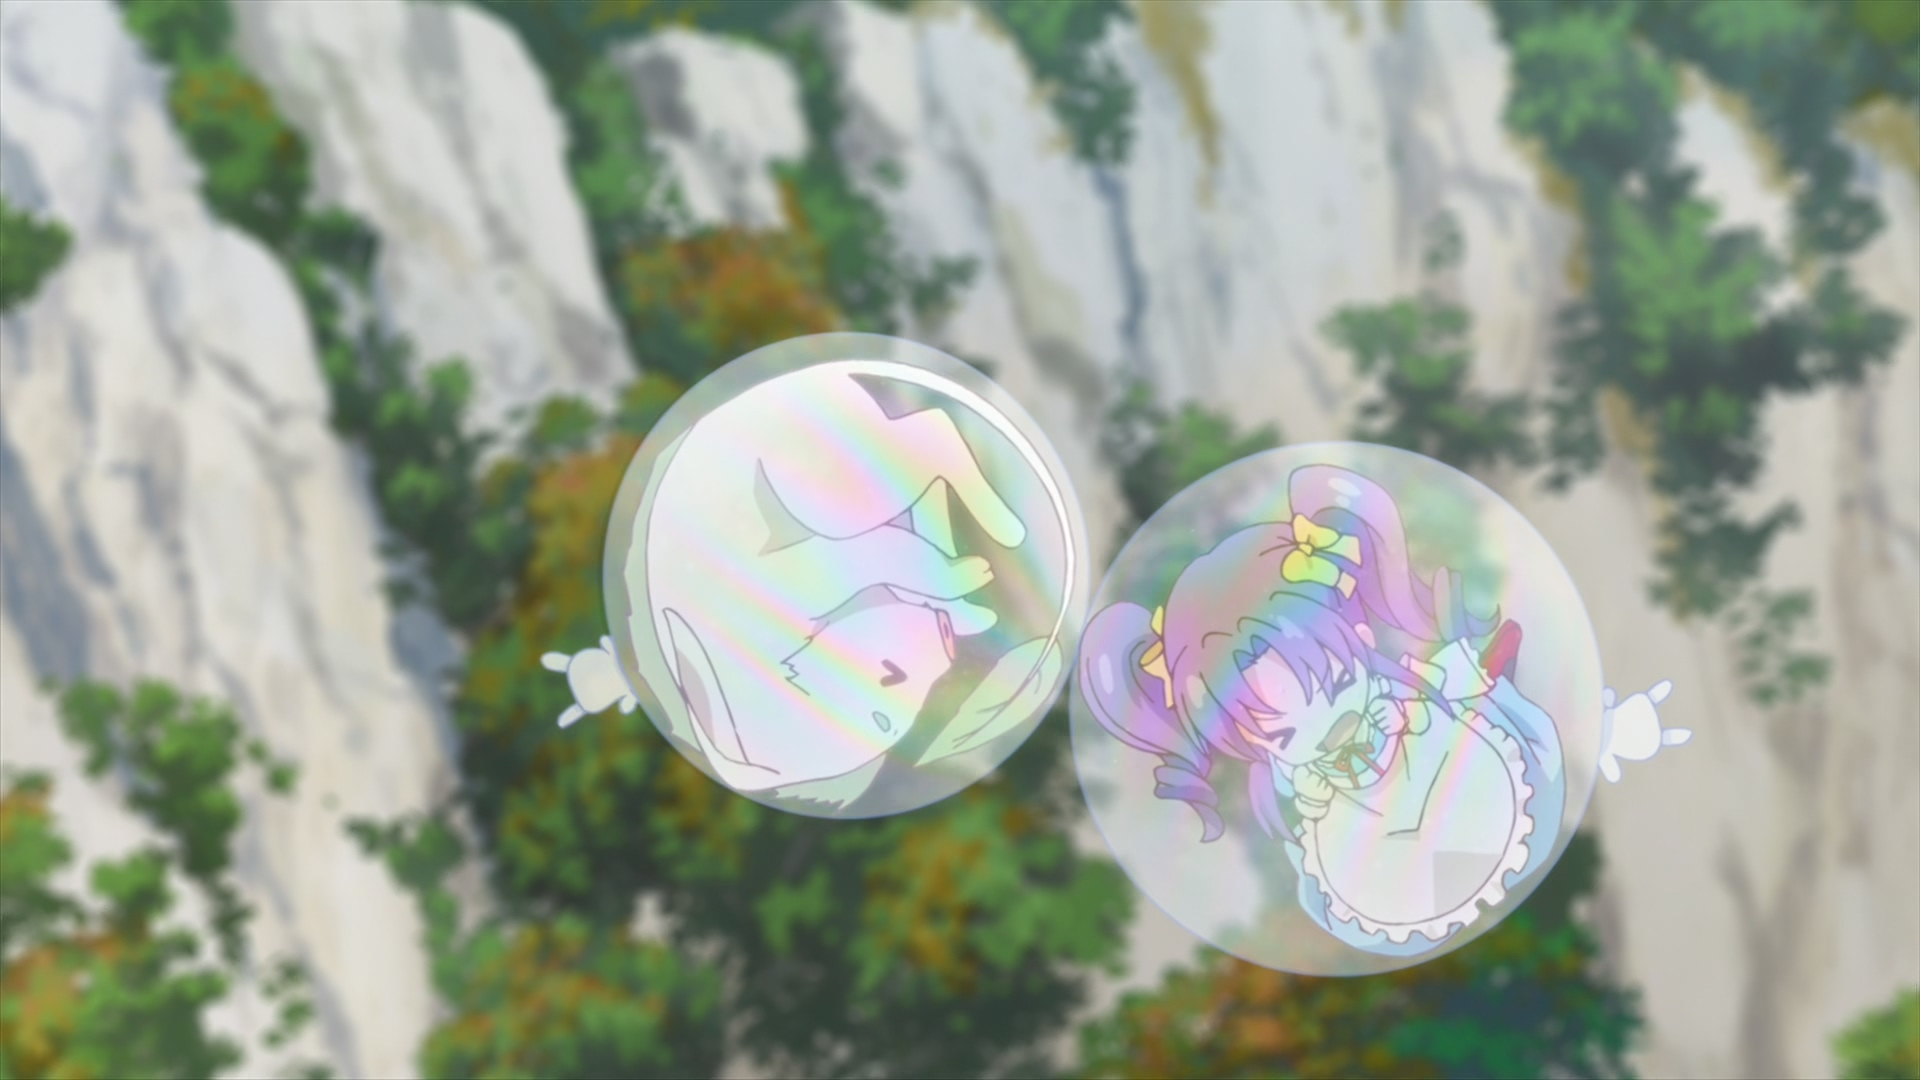瓜之介: (622, 357, 1072, 814)
阿菊: (1077, 464, 1567, 957)
